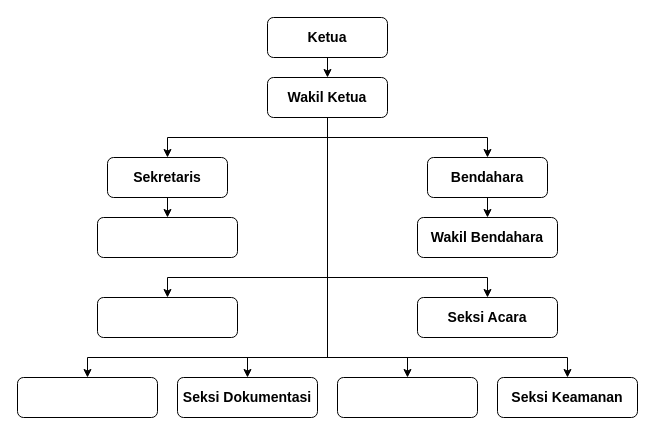
The diagram is 655 pixels wide and 435 high, and some of its shapes have lost their labels. The centre of each missing label's shape, as x and y in pixels:
"Seksi Konsumsi" belongs at (407,397).
"Seksi Pendanaan" belongs at (167,317).
"Seksi Perlengkapan" belongs at (87,397).
"Wakil Sekretaris" belongs at (167,237).
